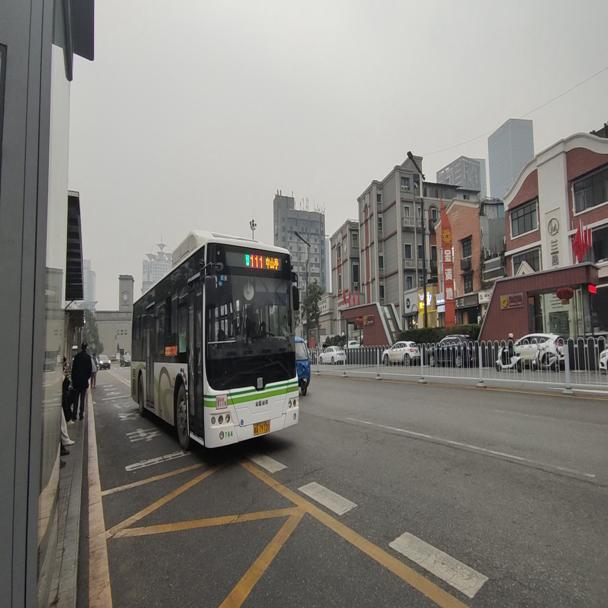bus: (130, 229, 299, 451)
screen: (249, 252, 263, 270)
